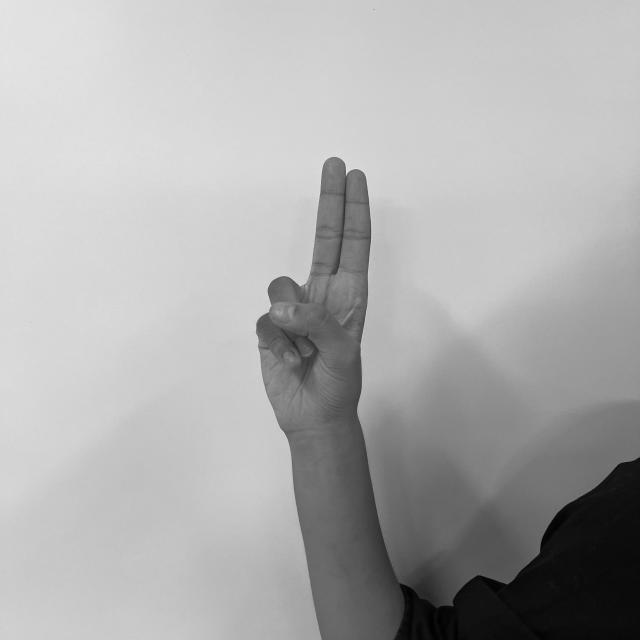Letra U: (250, 153, 376, 430)
